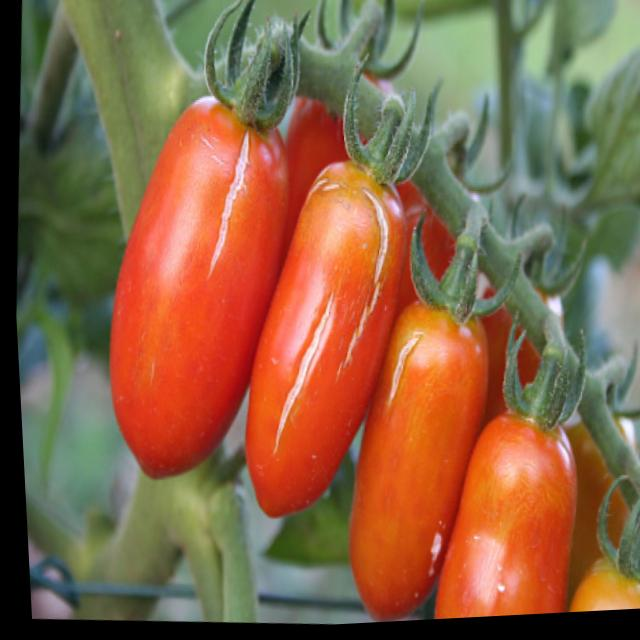damaged: (83, 66, 302, 495), (212, 143, 429, 531), (321, 285, 507, 627)
fine: (544, 557, 640, 619)
overripe: (411, 391, 585, 624)
